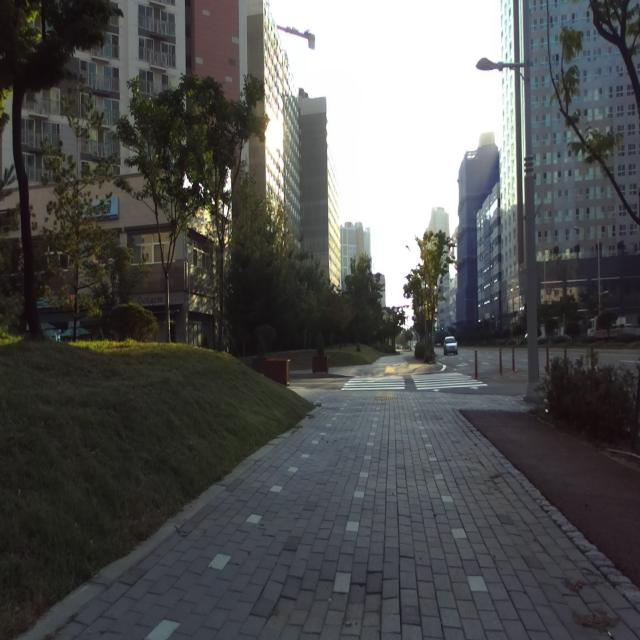횡단보도: (341, 373, 488, 392)
